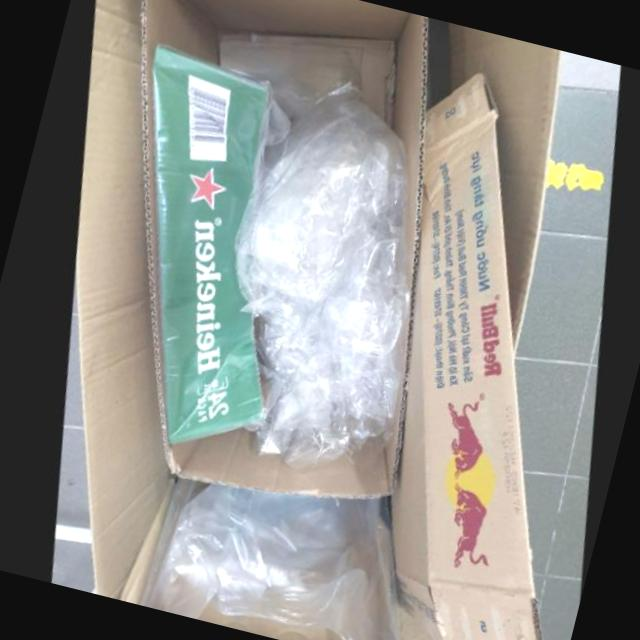carton: (139, 0, 426, 500), (381, 75, 529, 640)
tui_ni_long: (228, 87, 406, 466)
